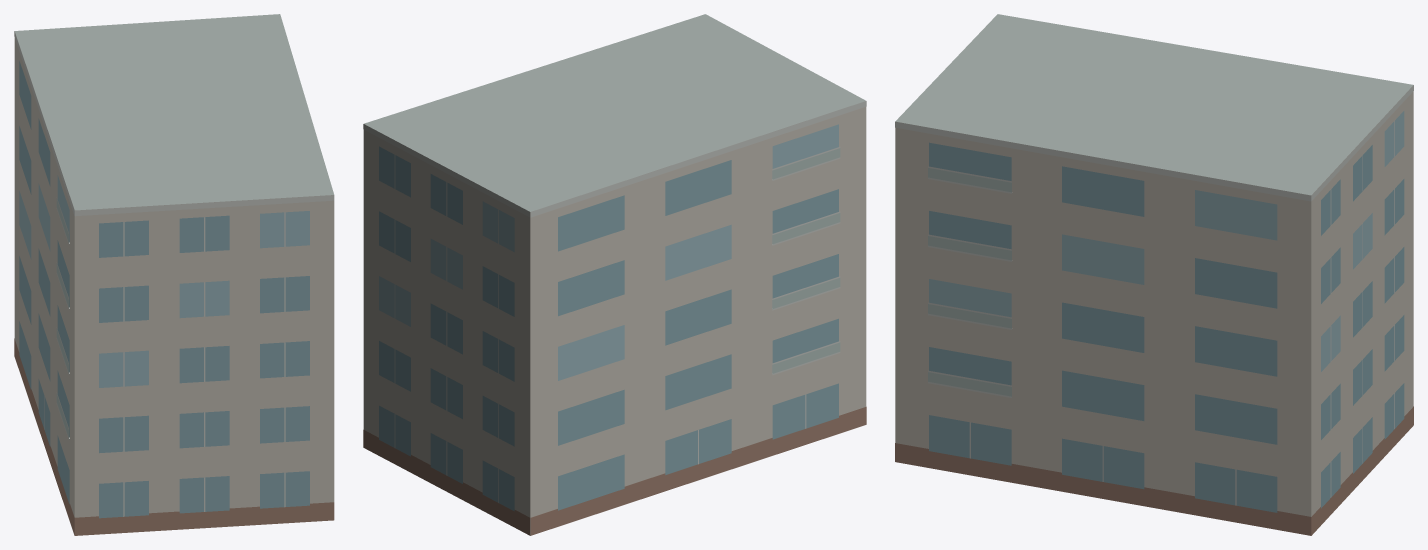
Rendered from survey-upis-33044165.glb.
3 views of the same model, side by side, from view 1: azimuth 30°, elevation 25°; view 2: azimuth 150°, elevation 25°; view 3: azimuth 270°, elevation 25° (orthographic). The views are drawn at different scales.
Parts seen in each view (by area): view 1: survey-upis-33044165.tmp; view 2: survey-upis-33044165.tmp; view 3: survey-upis-33044165.tmp.
Part boxes in pixels (left/top/right/bottom): survey-upis-33044165.tmp: left=14, top=14, right=334, bottom=535; survey-upis-33044165.tmp: left=363, top=14, right=866, bottom=535; survey-upis-33044165.tmp: left=895, top=14, right=1413, bottom=535.
Bounding box in the file's own units: 15.78 × 13.8 × 19.06.
